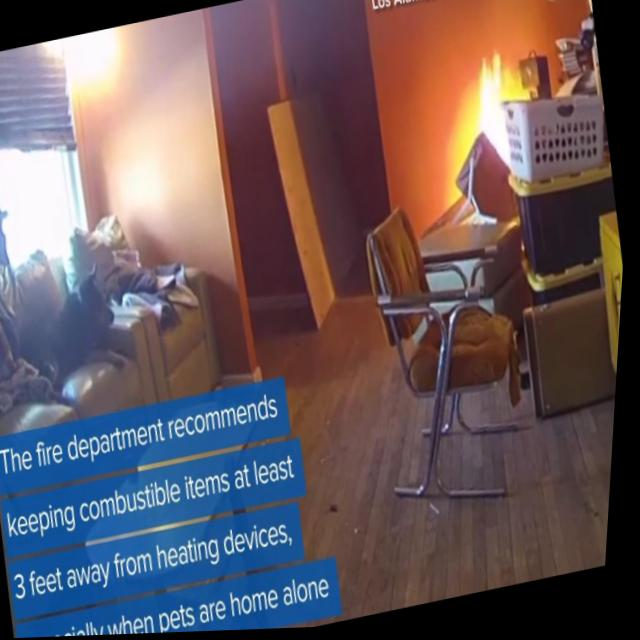fire: (458, 40, 536, 183)
